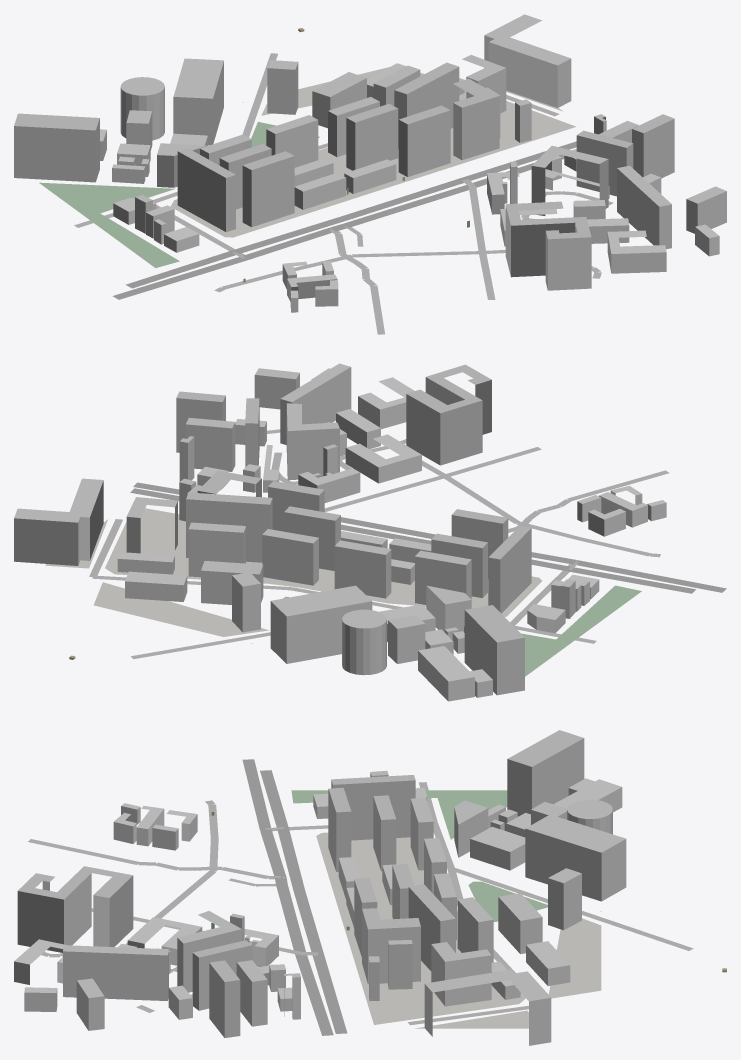
The picture shows the model from 3 angles, top to bottom: view 1: azimuth 30°, elevation 25°; view 2: azimuth 150°, elevation 25°; view 3: azimuth 270°, elevation 25°; orthographic projection. The views are drawn at different scales.
Size of the model in its own units: 602 by 60.3 by 633.
